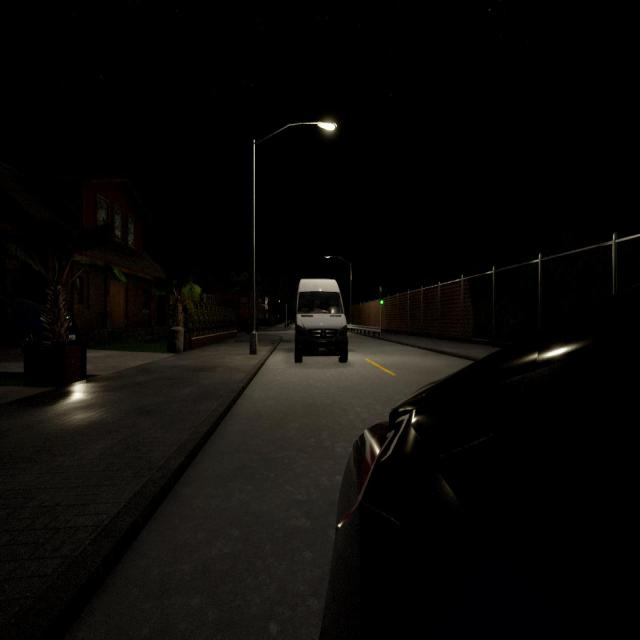Vehicle: (319, 312, 640, 638), (294, 279, 349, 364)
traffic_light: (379, 292, 384, 305)
